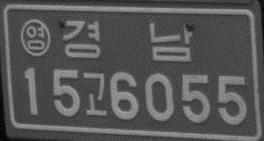0: (144, 71, 175, 122)
1: (21, 66, 42, 117)
5: (216, 73, 248, 127), (51, 66, 82, 118), (181, 71, 210, 125)
6: (108, 69, 141, 122)
경남_D: (61, 17, 195, 65)
고: (81, 70, 110, 118)
영: (19, 18, 52, 58)
